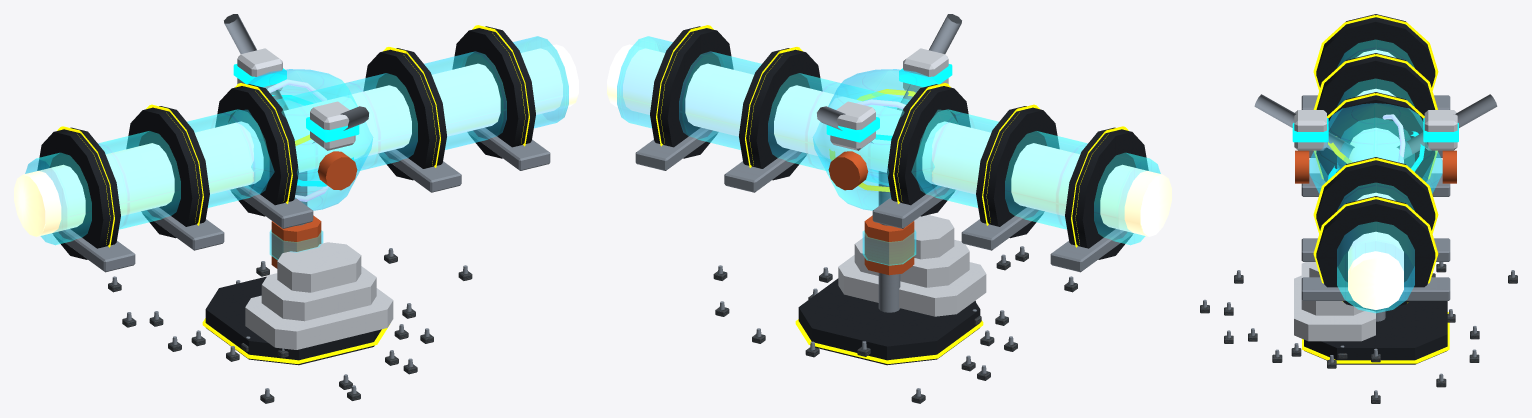
File: interior_setpiece_03_r1_04.glb
3 views of the same model, side by side, from view 1: azimuth 30°, elevation 25°; view 2: azimuth 150°, elevation 25°; view 3: azimuth 270°, elevation 25° (orthographic). The views are drawn at different scales.
Parts seen in each view (by area): view 1: Setpiece03_C04_glass_cyan, Setpiece03_C04_gunmetal, Setpiece03_C04_sky_golden_core, Setpiece03_C04_aero_white, Setpiece03_C04_steel_machined, Setpiece03_C04_led_amber, Setpiece03_C04_accent_orange, Setpiece03_C04_cliff_basalt, Setpiece03_C04_led_cyan, Setpiece03_C04_led_uv; view 2: Setpiece03_C04_glass_cyan, Setpiece03_C04_gunmetal, Setpiece03_C04_sky_golden_core, Setpiece03_C04_steel_machined, Setpiece03_C04_aero_white, Setpiece03_C04_accent_orange, Setpiece03_C04_led_amber, Setpiece03_C04_cliff_basalt, Setpiece03_C04_led_cyan; view 3: Setpiece03_C04_gunmetal, Setpiece03_C04_glass_cyan, Setpiece03_C04_steel_machined, Setpiece03_C04_sky_golden_core, Setpiece03_C04_aero_white, Setpiece03_C04_led_amber, Setpiece03_C04_cliff_basalt, Setpiece03_C04_led_cyan, Setpiece03_C04_accent_orange, Setpiece03_C04_led_uv.
Part boxes in pixels (x1,y1,x2,y2): Setpiece03_C04_glass_cyan: (25, 36, 568, 259); Setpiece03_C04_gunmetal: (37, 26, 535, 365); Setpiece03_C04_sky_golden_core: (14, 44, 578, 236); Setpiece03_C04_aero_white: (237, 48, 393, 349); Setpiece03_C04_steel_machined: (52, 14, 550, 396); Setpiece03_C04_led_amber: (57, 25, 529, 363); Setpiece03_C04_accent_orange: (271, 151, 357, 268); Setpiece03_C04_cliff_basalt: (108, 254, 472, 403); Setpiece03_C04_led_cyan: (233, 64, 359, 186); Setpiece03_C04_led_uv: (267, 79, 328, 201); Setpiece03_C04_glass_cyan: (617, 36, 1160, 265); Setpiece03_C04_gunmetal: (650, 26, 1148, 365); Setpiece03_C04_sky_golden_core: (607, 44, 1171, 236); Setpiece03_C04_steel_machined: (635, 14, 1133, 396); Setpiece03_C04_aero_white: (830, 48, 986, 316); Setpiece03_C04_accent_orange: (828, 151, 914, 275); Setpiece03_C04_led_amber: (656, 25, 1128, 363); Setpiece03_C04_cliff_basalt: (713, 252, 1077, 403); Setpiece03_C04_led_cyan: (826, 64, 952, 142); Setpiece03_C04_gunmetal: (1304, 14, 1447, 364); Setpiece03_C04_glass_cyan: (1309, 39, 1442, 313); Setpiece03_C04_steel_machined: (1202, 94, 1515, 397); Setpiece03_C04_sky_golden_core: (1348, 50, 1403, 309); Setpiece03_C04_aero_white: (1294, 110, 1457, 341); Setpiece03_C04_led_amber: (1302, 15, 1449, 363); Setpiece03_C04_cliff_basalt: (1200, 264, 1517, 403); Setpiece03_C04_led_cyan: (1292, 118, 1458, 179); Setpiece03_C04_accent_orange: (1295, 150, 1456, 183); Setpiece03_C04_led_uv: (1382, 114, 1405, 163).
Bounding box in the file's own units: 54 × 25.79 × 30.99.
Materials: 10 (10 with a texture image).
